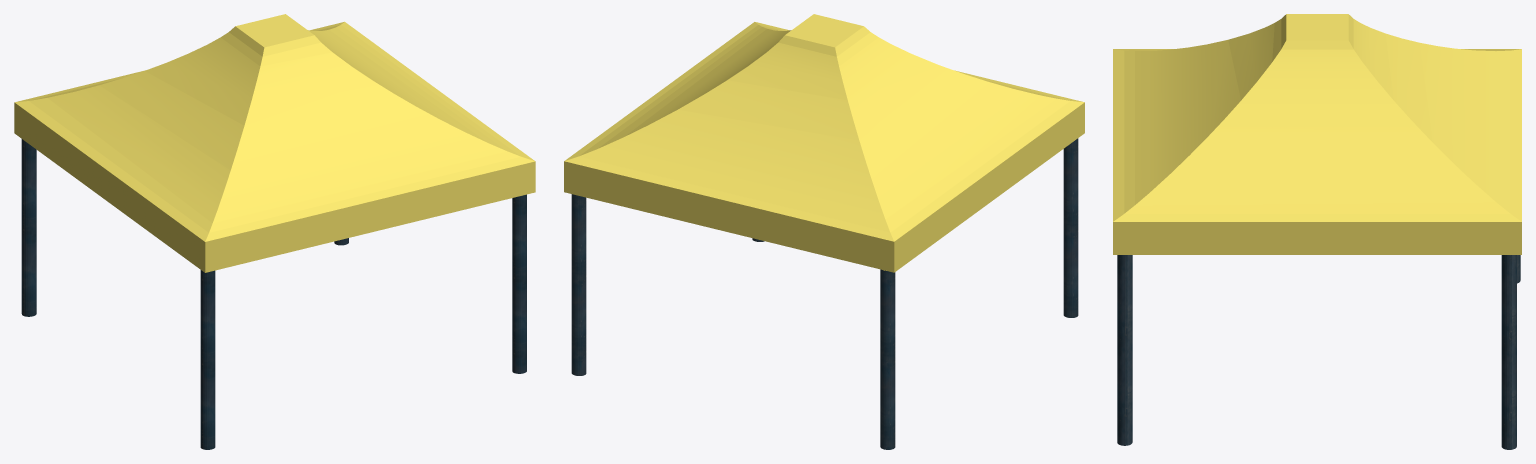
The model's file is Carpa.fbx.
3 views of the same model, side by side, from view 1: azimuth 30°, elevation 25°; view 2: azimuth 150°, elevation 25°; view 3: azimuth 270°, elevation 25° (orthographic). The views are drawn at different scales.
Visible parts, largest first — view 1: Cylinder.003; view 2: Cylinder.003; view 3: Cylinder.003.
Part boxes in pixels (x1=…): Cylinder.003: x1=14, y1=14, x2=535, y2=449; Cylinder.003: x1=564, y1=14, x2=1084, y2=449; Cylinder.003: x1=1113, y1=14, x2=1521, y2=449.
Size of the model in its own units: 65.3 by 59.54 by 65.3.
